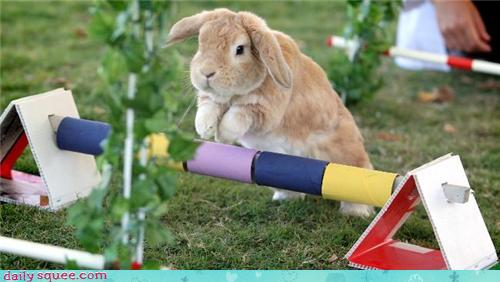bunny: (154, 4, 377, 195)
